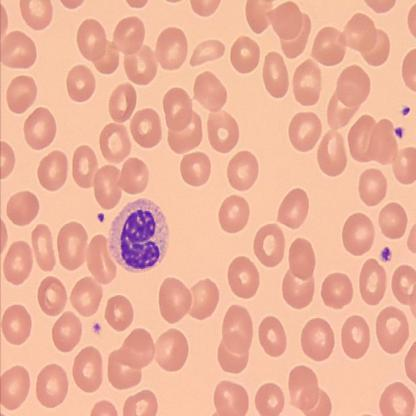Band Neutrophil: (106, 194, 172, 275)
